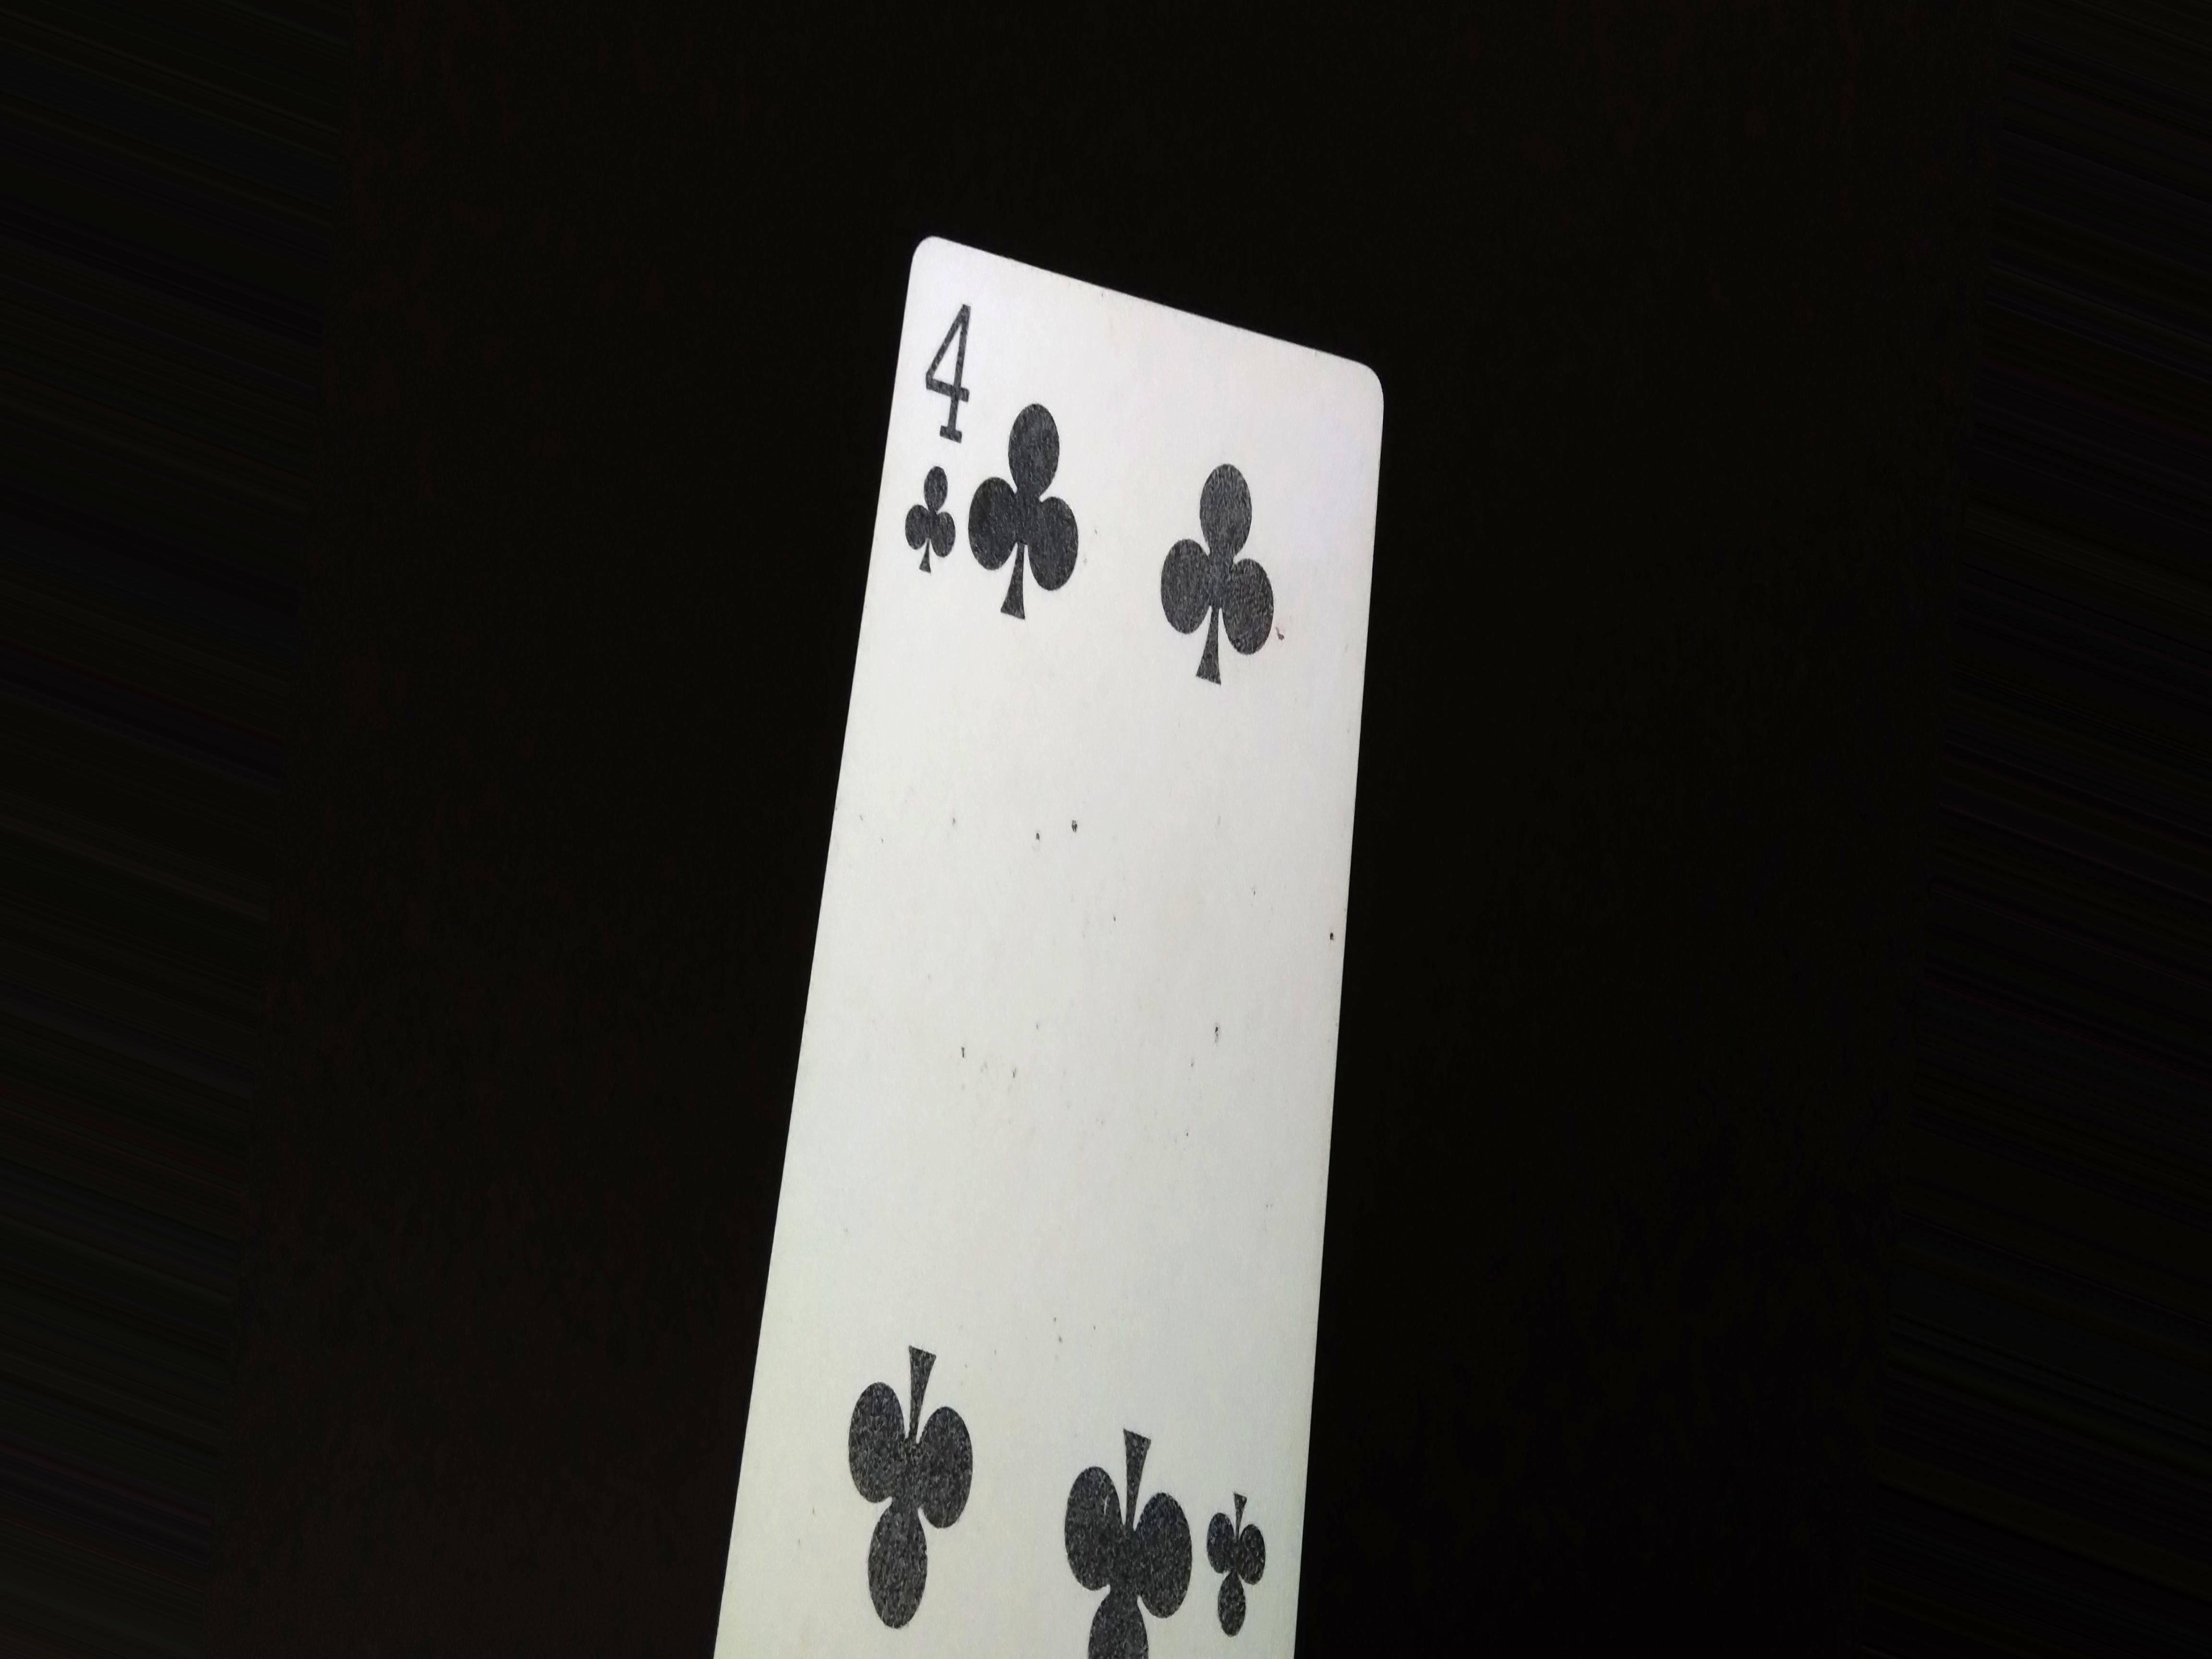4C: (881, 317, 993, 584)
